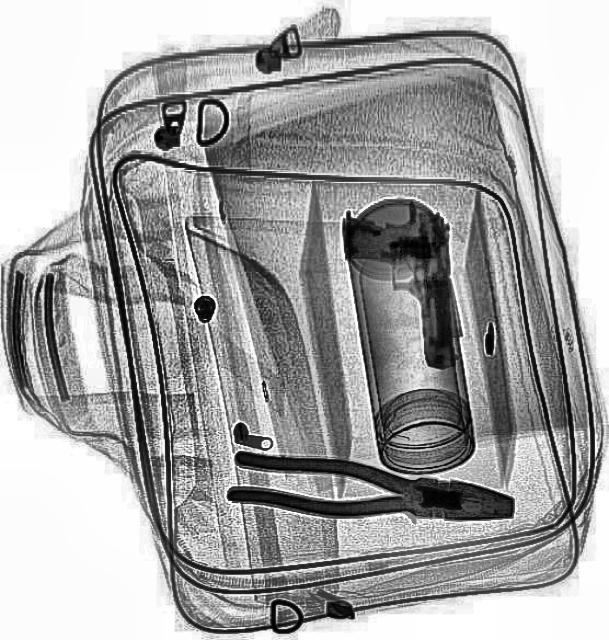Gun: (339, 192, 459, 376)
Pliers: (226, 446, 514, 534)
